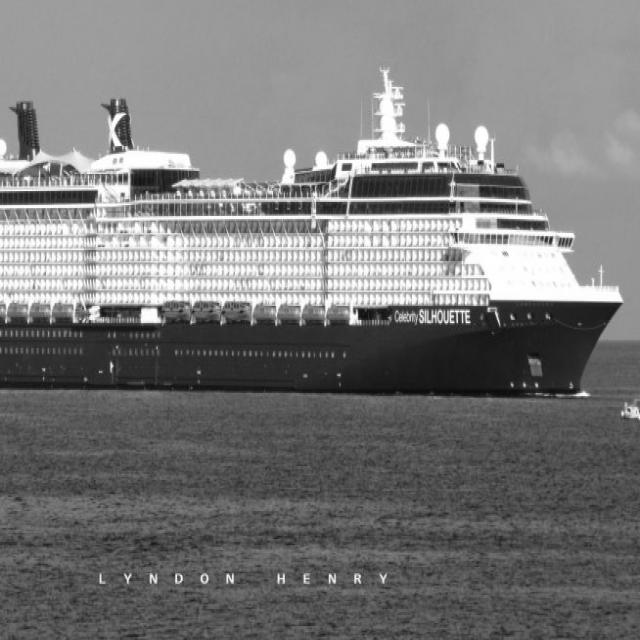cruises: (1, 64, 629, 411)
